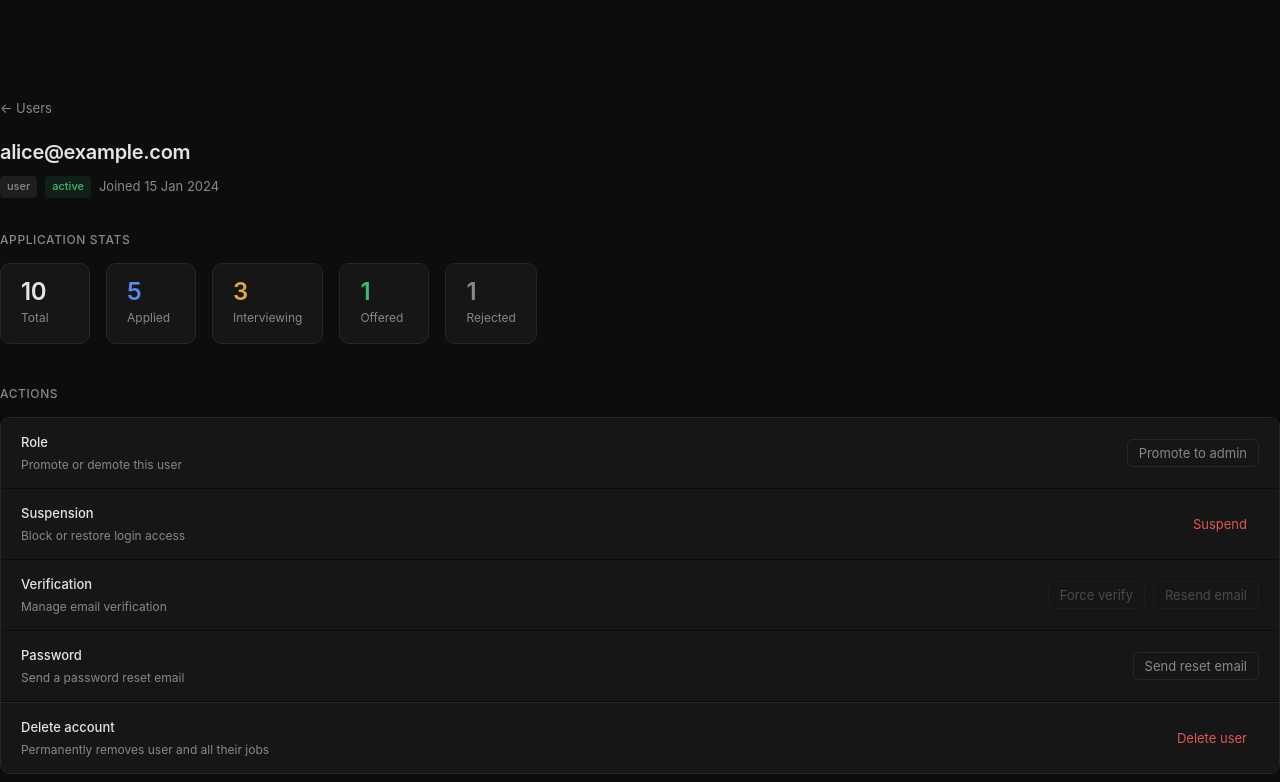
Test case: AdminUserDetail › shows error message when setRole rejects
What coordinates should you click on to do the following:
click the button "Promote to admin"
I would click on:
 (1193, 453)
Its box is [1127,439,1259,467].
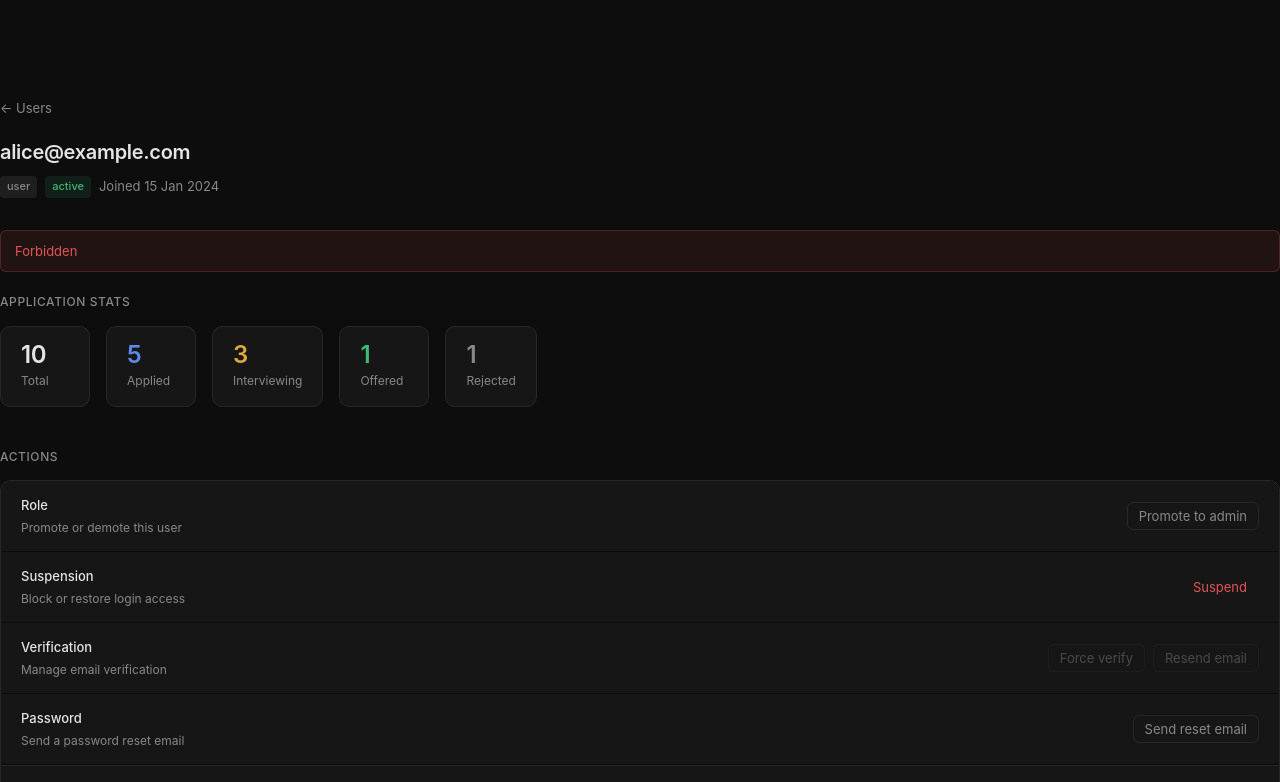
Expected: the text with class "action-msg" reads "Forbidden", [15,243,77,259]
